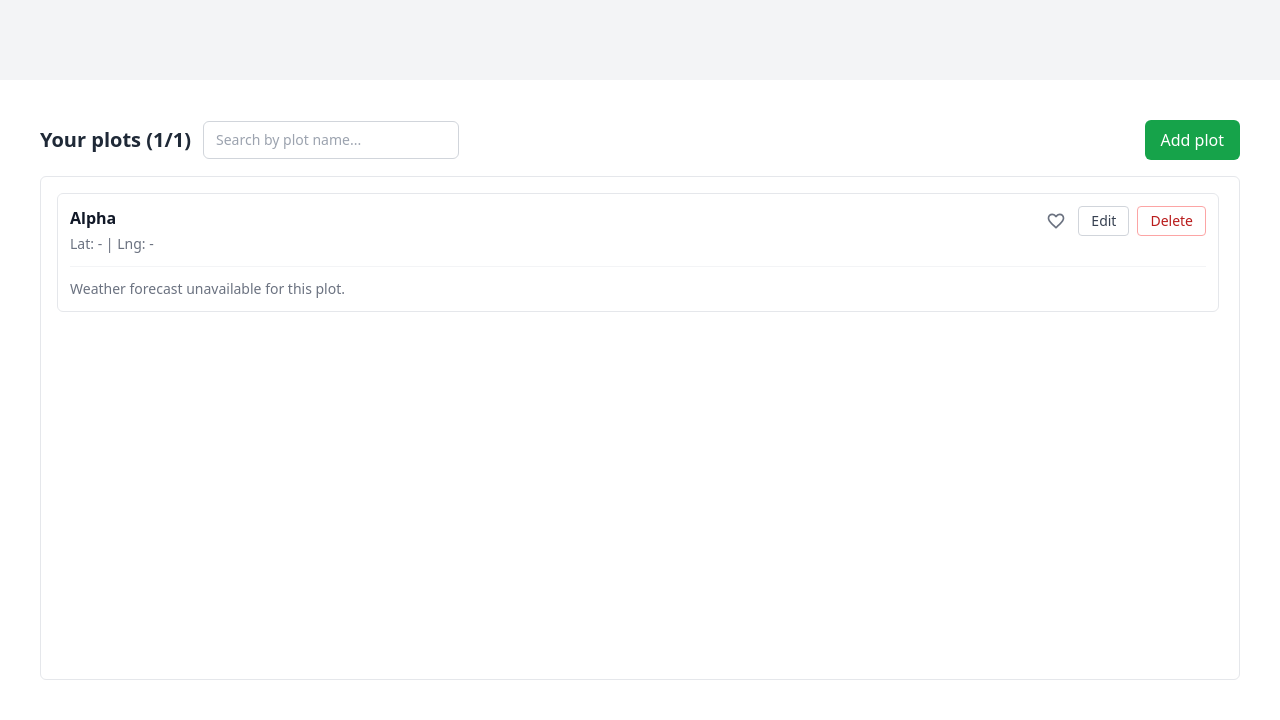
Test: HomePage › edits then deletes a plot from the list
This screenshot has width=1280, height=720.
Click the button "Edit" at (1104, 221), box [1078,206,1130,236]
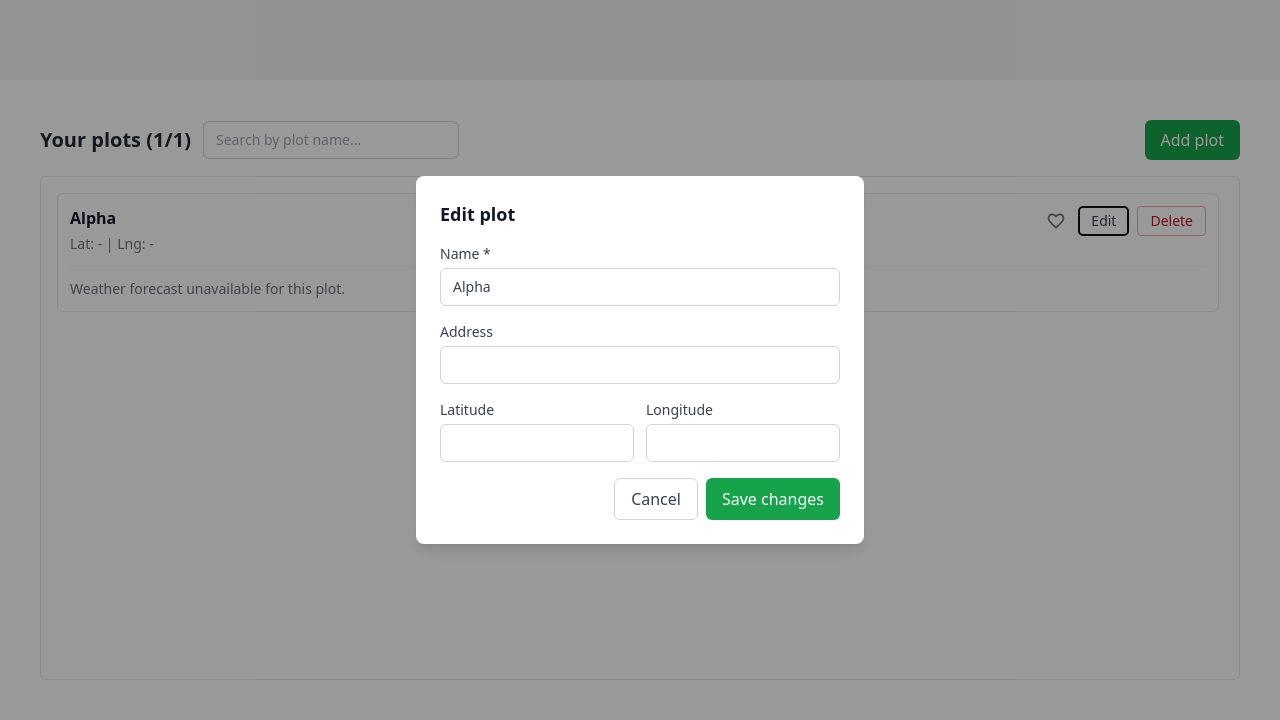
Replace the text in the field labelled "Name *" with "Zulu" at (640, 287), box [440,268,840,306]
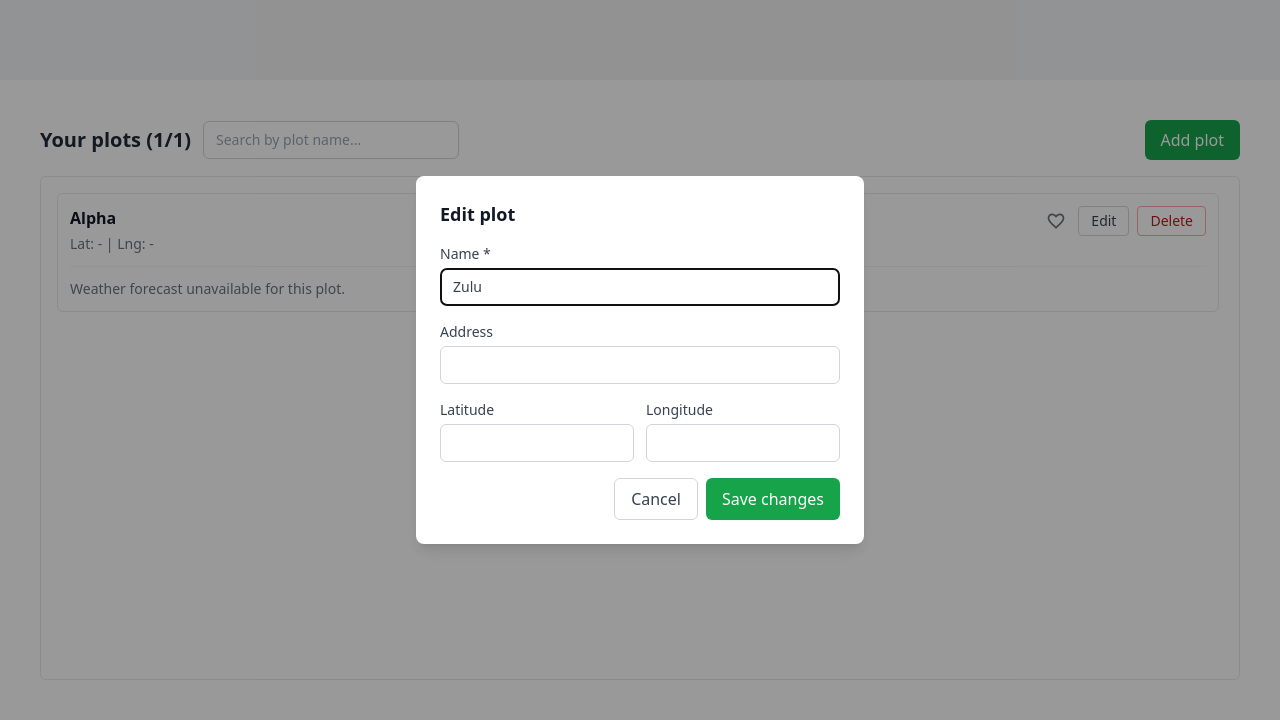
Click the button "Save changes" at (773, 499), box [706,478,840,520]
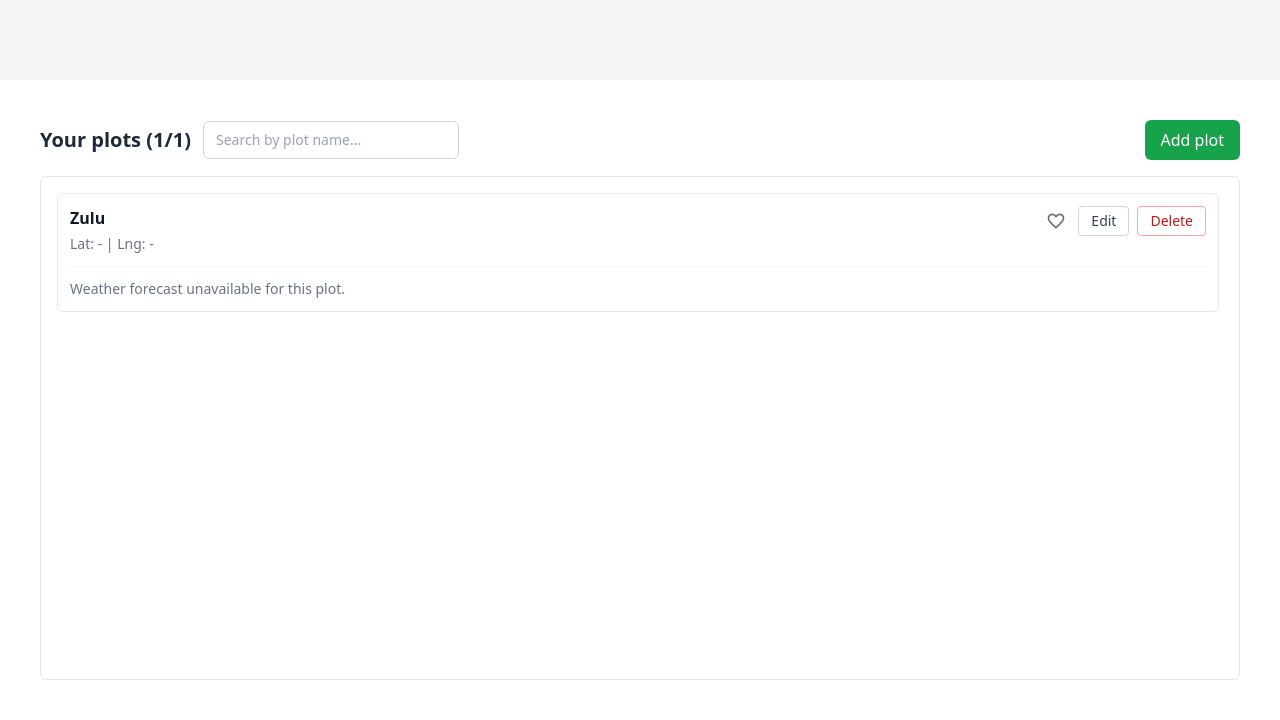
Check: the text "Zulu" is shown, box [70,207,105,229]
Click the button "Delete" at (1172, 221), box [1137,206,1206,236]
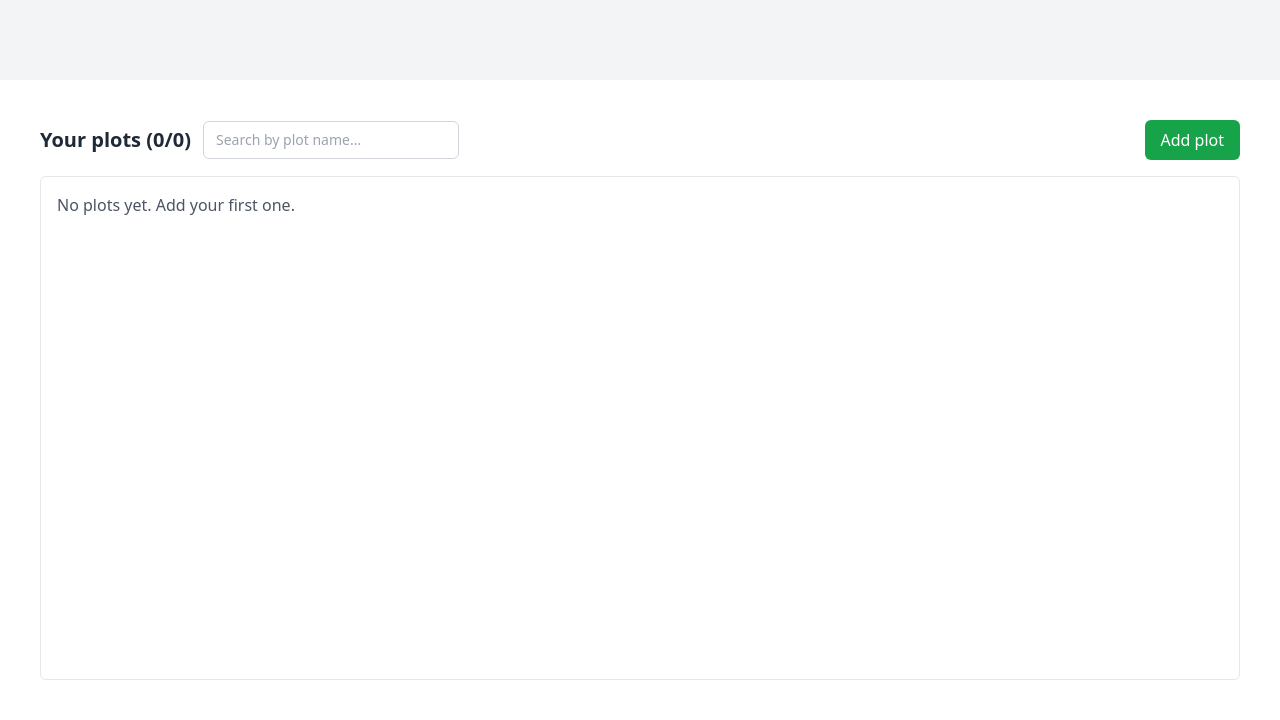
Check: the text "No plots yet. Add your first one." is shown, box [57,194,295,216]
